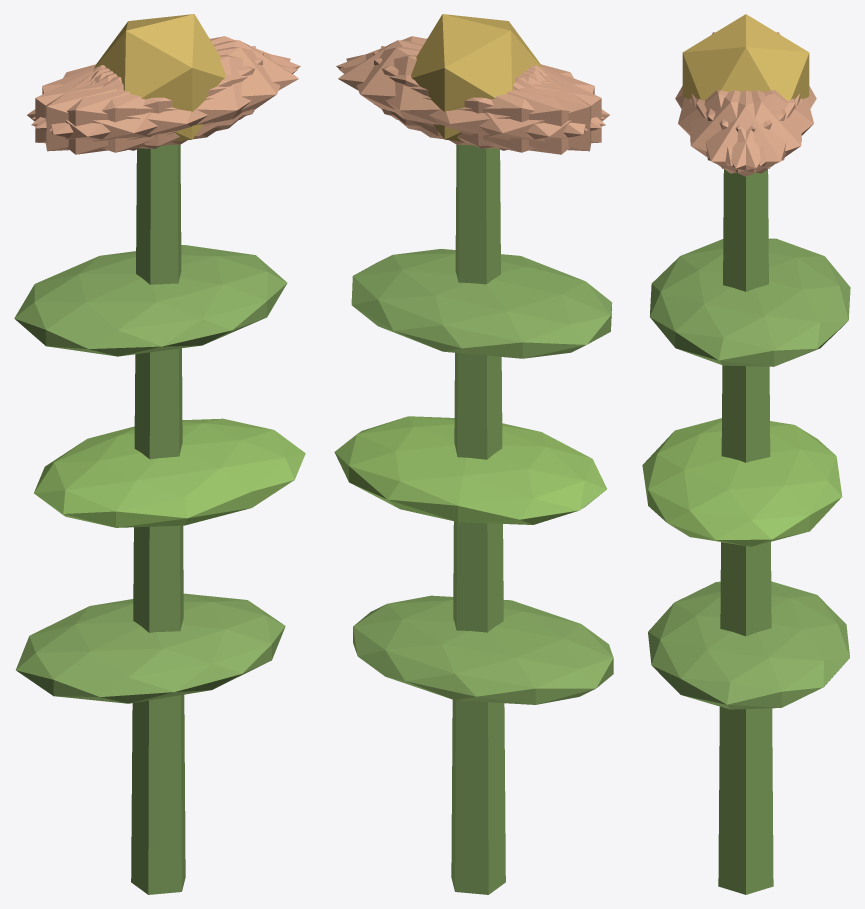
File: blumea-balsamifera.glb
3 renders of one model, left to right at view 1: azimuth 30°, elevation 25°; view 2: azimuth 150°, elevation 25°; view 3: azimuth 270°, elevation 25°, orthographic.
Parts seen in each view (by area): view 1: stem, leaf2, leaf1, leaf0, center, petal1, petal6, petal2, petal5, petal7, petal0, petal4 (+1 smaller); view 2: stem, leaf2, leaf0, leaf1, center, petal8, petal3, petal7, petal4, petal2, petal0, petal5 (+2 smaller); view 3: stem, leaf2, leaf1, leaf0, center, petal0, petal4, petal5, petal1, petal8.
Part boxes in pixels (left/top/right/bottom): stem: left=131, top=144, right=185, bottom=894; leaf2: left=14, top=245, right=287, bottom=356; leaf1: left=34, top=418, right=305, bottom=527; leaf0: left=16, top=593, right=285, bottom=703; center: left=94, top=14, right=225, bottom=141; petal1: left=31, top=54, right=298, bottom=152; petal6: left=27, top=66, right=220, bottom=154; petal2: left=45, top=46, right=255, bottom=151; petal5: left=49, top=47, right=290, bottom=145; petal7: left=35, top=51, right=263, bottom=148; petal0: left=94, top=40, right=298, bottom=136; petal4: left=32, top=36, right=300, bottom=128; stem: left=451, top=144, right=505, bottom=894; leaf2: left=351, top=249, right=612, bottom=358; leaf0: left=353, top=595, right=613, bottom=704; leaf1: left=334, top=416, right=606, bottom=524; center: left=411, top=14, right=542, bottom=141; petal8: left=338, top=54, right=605, bottom=152; petal3: left=416, top=66, right=609, bottom=154; petal7: left=381, top=46, right=591, bottom=151; petal4: left=346, top=47, right=587, bottom=145; petal2: left=373, top=51, right=601, bottom=148; petal0: left=338, top=40, right=542, bottom=136; petal5: left=336, top=36, right=604, bottom=128; stem: left=718, top=169, right=773, bottom=894; leaf2: left=649, top=238, right=850, bottom=366; leaf1: left=642, top=418, right=842, bottom=546; leaf0: left=648, top=581, right=849, bottom=709; center: left=682, top=14, right=809, bottom=100; petal0: left=691, top=90, right=800, bottom=176; petal4: left=696, top=90, right=801, bottom=173; petal5: left=690, top=90, right=795, bottom=173; petal1: left=678, top=90, right=785, bottom=166; petal8: left=706, top=90, right=813, bottom=166.
Bounding box in the file's own units: 0.1478 × 0.4543 × 0.1006.
